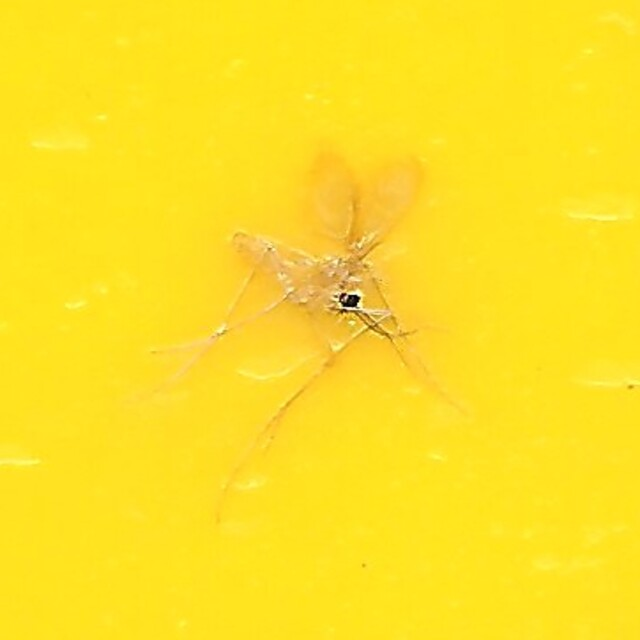Nematocera: (177, 152, 463, 488)
